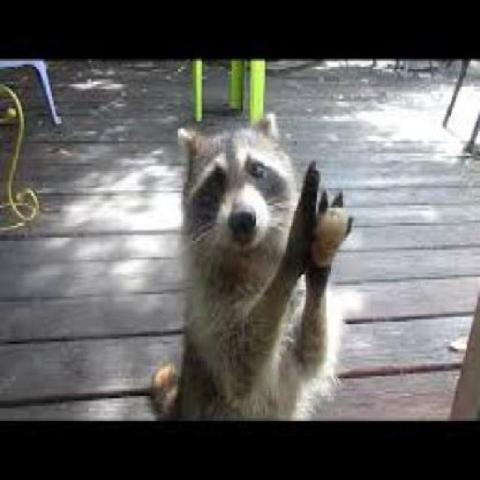small_animal: (2, 59, 477, 422), (150, 112, 355, 420)
